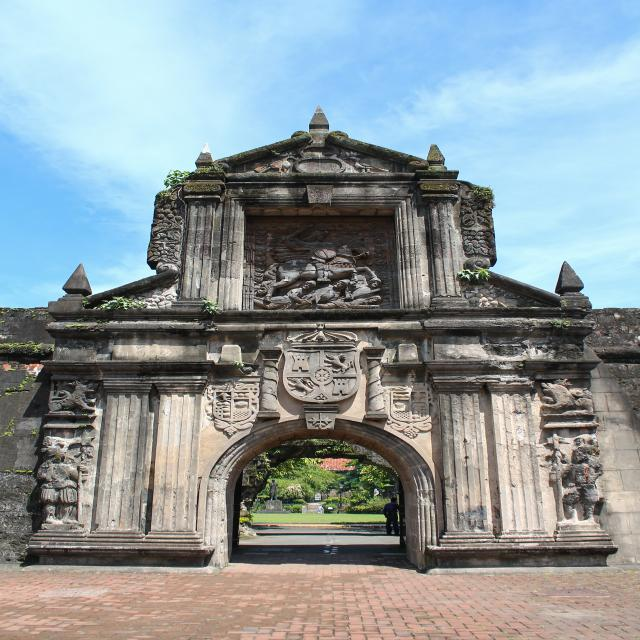Fort Santiago: (0, 107, 640, 574)
